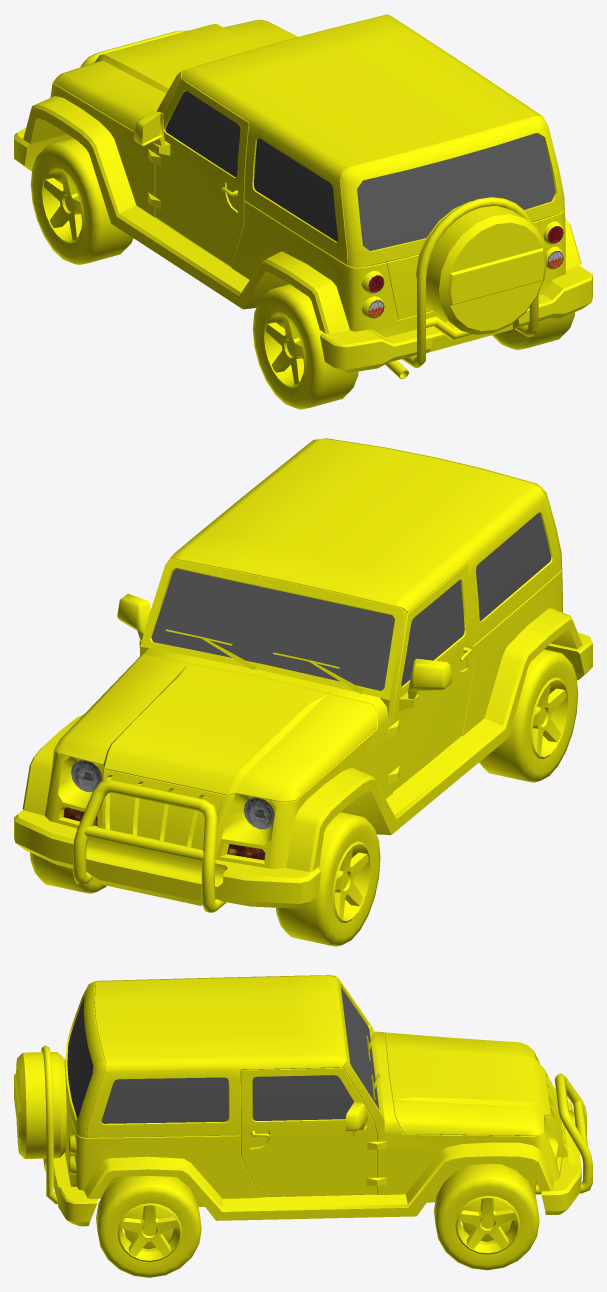
Rendered from pack_offroad.glb.
3 views of the same model, one above another, from view 1: azimuth 30°, elevation 25°; view 2: azimuth 150°, elevation 25°; view 3: azimuth 270°, elevation 25° (orthographic). The views are drawn at different scales.
Parts seen in each view (by area): view 1: Offroad Body, Wheel_G, Wheel_G001, Wheel_G002; view 2: Offroad Body, Wheel_G, Wheel_G001, Wheel_G001.001; view 3: Offroad Body, Wheel_G001.001, Wheel_G002.
Part boxes in pixels (x1,y1,x2,y2): Offroad Body: [14, 14, 592, 378]; Wheel_G: [30, 138, 133, 264]; Wheel_G001: [252, 284, 358, 409]; Wheel_G002: [492, 312, 574, 350]; Offroad Body: [14, 438, 592, 912]; Wheel_G: [276, 812, 380, 946]; Wheel_G001: [479, 649, 578, 782]; Wheel_G001.001: [30, 852, 106, 893]; Offroad Body: [14, 975, 592, 1226]; Wheel_G001.001: [434, 1163, 539, 1270]; Wheel_G002: [96, 1176, 201, 1277].
Bounding box in the file's own units: 2.21 × 1.77 × 4.47.
Materials: 3 (1 with a texture image).
